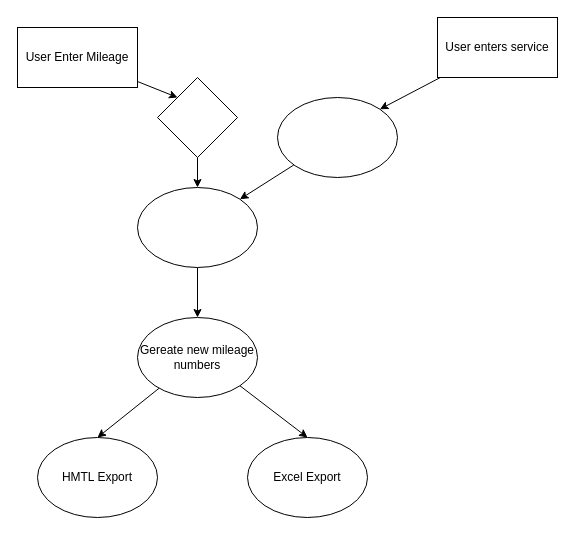
Image size: 575x535. Some labels were removed from this diagram. Each missing label, with the centre of its shape:
Ask to gen: the point at 197,117
Grab service preferences: the point at 337,137
Grab user preferences on data export: the point at 197,227
